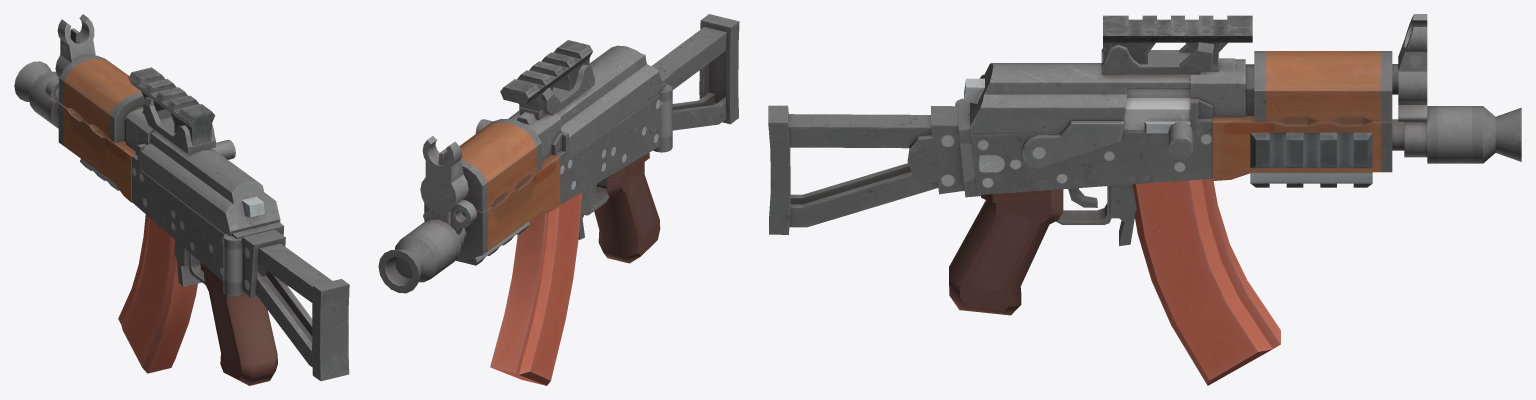
File: IG_Gun_AK74U.fbx
The picture shows the model from 3 angles, left to right: view 1: azimuth 30°, elevation 25°; view 2: azimuth 150°, elevation 25°; view 3: azimuth 270°, elevation 25°; orthographic projection. The views are drawn at different scales.
Parts seen in each view (by area): view 1: WPN_AK74U, ShowIf_Scope, HideIf_Muzzle; view 2: WPN_AK74U, HideIf_Muzzle, ShowIf_Scope, ShowIf_Grip; view 3: WPN_AK74U, HideIf_Muzzle, ShowIf_Scope, ShowIf_Tec, ShowIf_Grip.
Boxes of the visible parts, x1,y1,x2,y2 form: WPN_AK74U: (45,14,349,385); ShowIf_Scope: (128,67,215,145); HideIf_Muzzle: (14,61,58,128); WPN_AK74U: (420,14,739,385); HideIf_Muzzle: (378,219,460,293); ShowIf_Scope: (500,40,592,111); ShowIf_Grip: (456,221,529,265); WPN_AK74U: (768,14,1427,385); HideIf_Muzzle: (1427,106,1521,163); ShowIf_Scope: (1103,15,1252,66); ShowIf_Tec: (1250,132,1372,168); ShowIf_Grip: (1250,172,1372,187).
Bounding box in the file's own units: 0.1596 × 0.4791 × 0.911.
